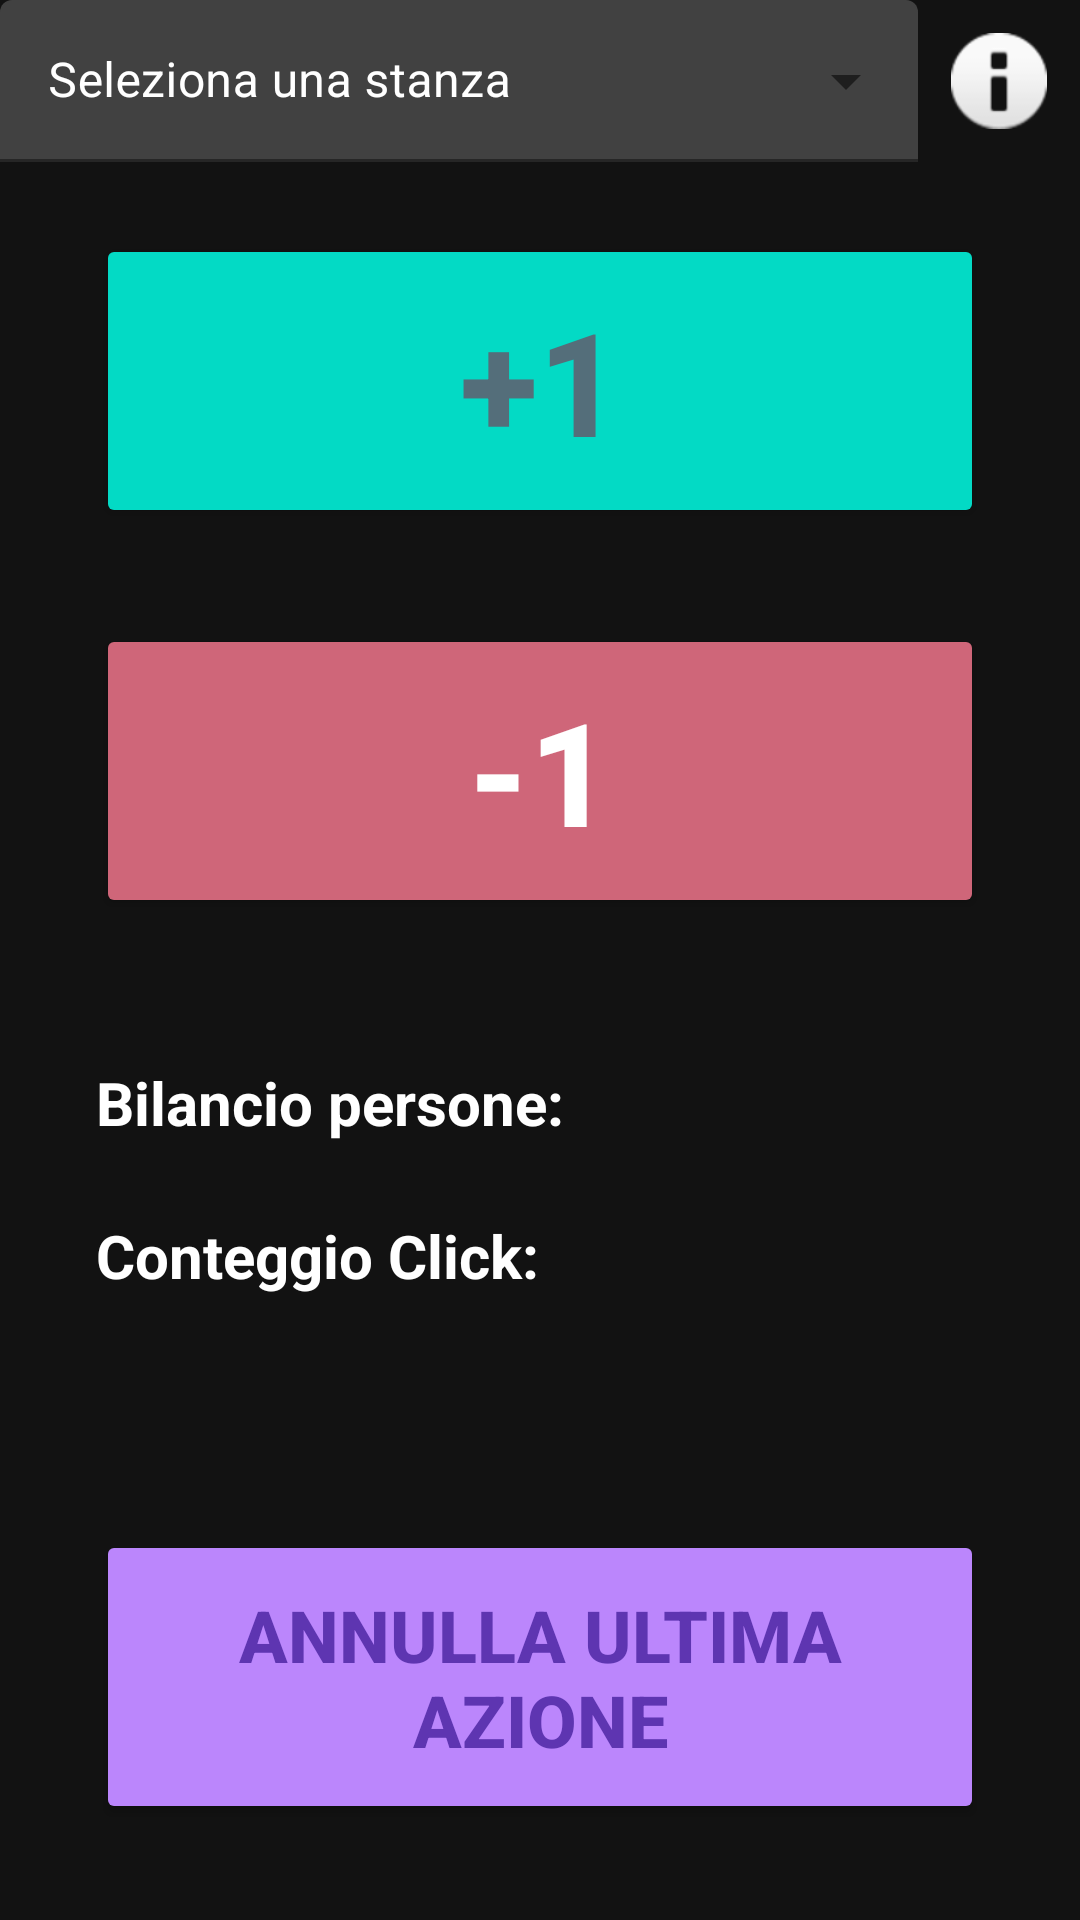

Icons on this 1080 × 1920 Android screen, each with its box as (left=x1, top=y1, right=x2, bottom=y2):
info: (left=951, top=33, right=1047, bottom=129)
